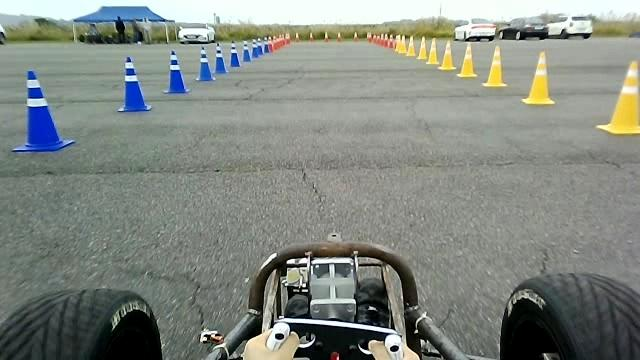blue cone: (11, 69, 75, 152), (116, 55, 151, 111), (160, 50, 188, 94), (195, 44, 215, 80), (212, 42, 228, 74)
yellow cone: (595, 60, 639, 134), (518, 52, 552, 106), (481, 45, 507, 87), (456, 41, 477, 77), (437, 39, 456, 70)
